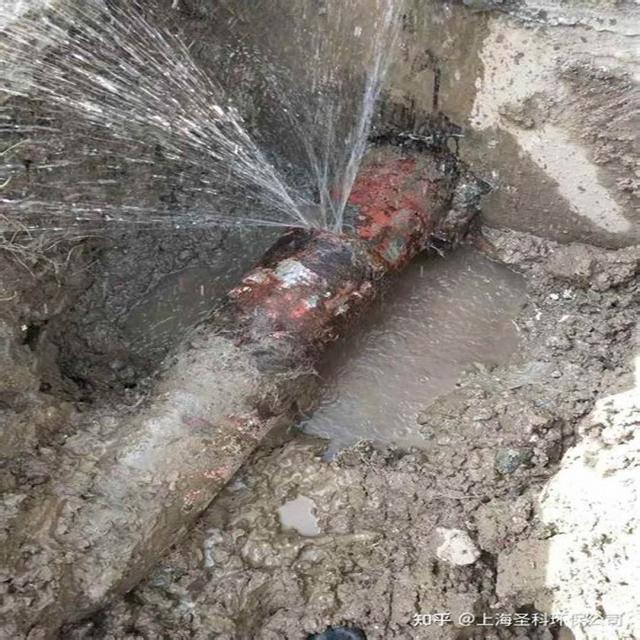leak: (0, 0, 400, 232)
